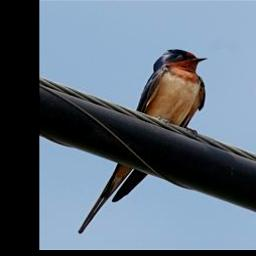Swallow: (78, 47, 209, 234)
